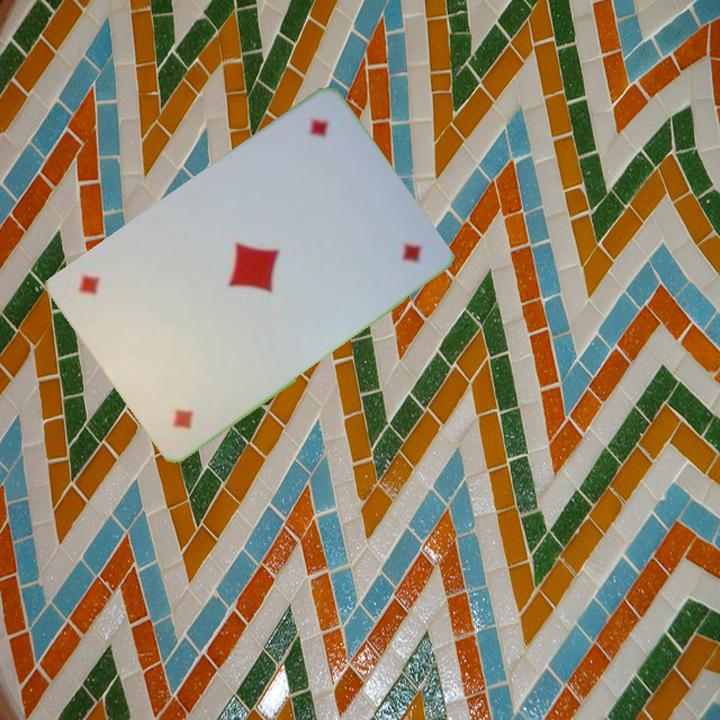d_a.png: (257, 103, 383, 232), (118, 316, 244, 445)
